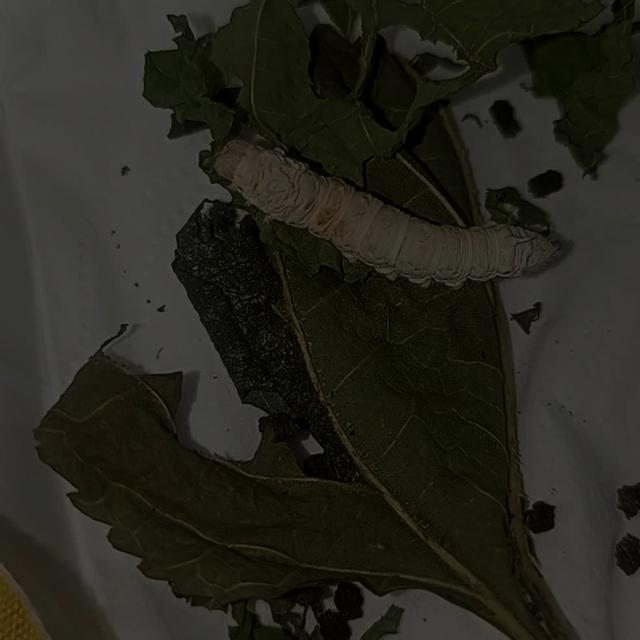Healthy: (194, 83, 574, 332)
